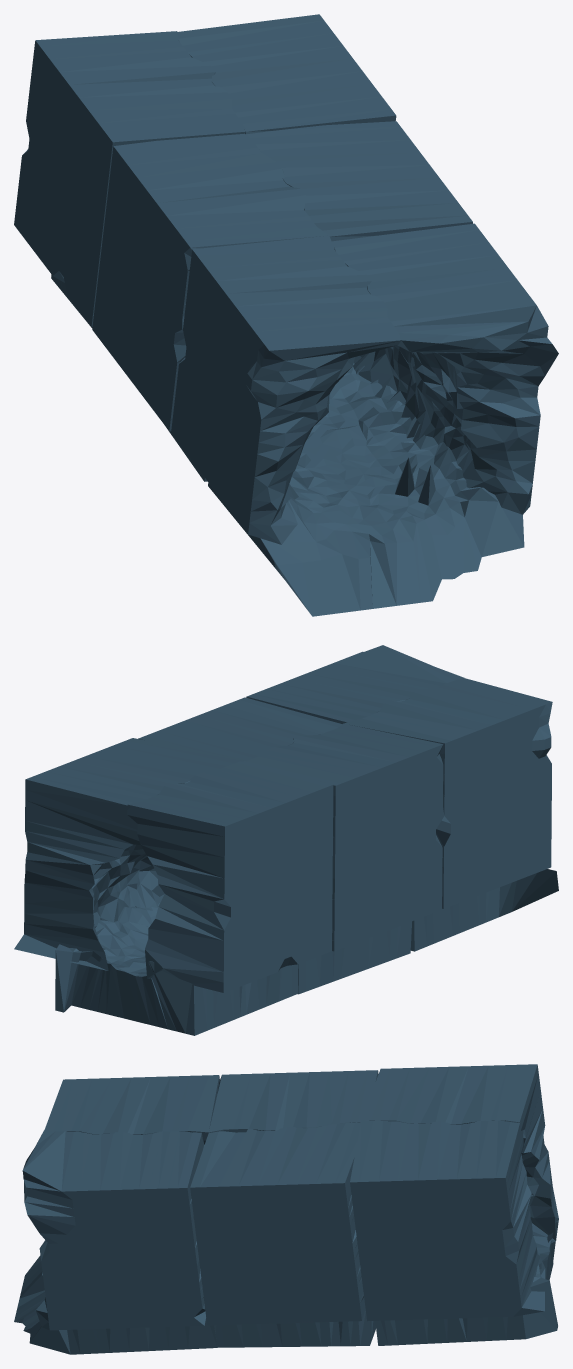
File: cave.glb
3 views of the same model, one above another, from view 1: azimuth 30°, elevation 25°; view 2: azimuth 150°, elevation 25°; view 3: azimuth 270°, elevation 25° (orthographic). The views are drawn at different scales.
Visible parts, largest first — view 1: node_id4; view 2: node_id4; view 3: node_id4.
Part boxes in pixels (x1,y1,x2,y2): node_id4: [14, 14, 558, 616]; node_id4: [14, 645, 558, 1035]; node_id4: [14, 1064, 558, 1354].
Size of the model in its own units: 18.27 by 15.84 by 32.37.
1 material, 1 textured.
